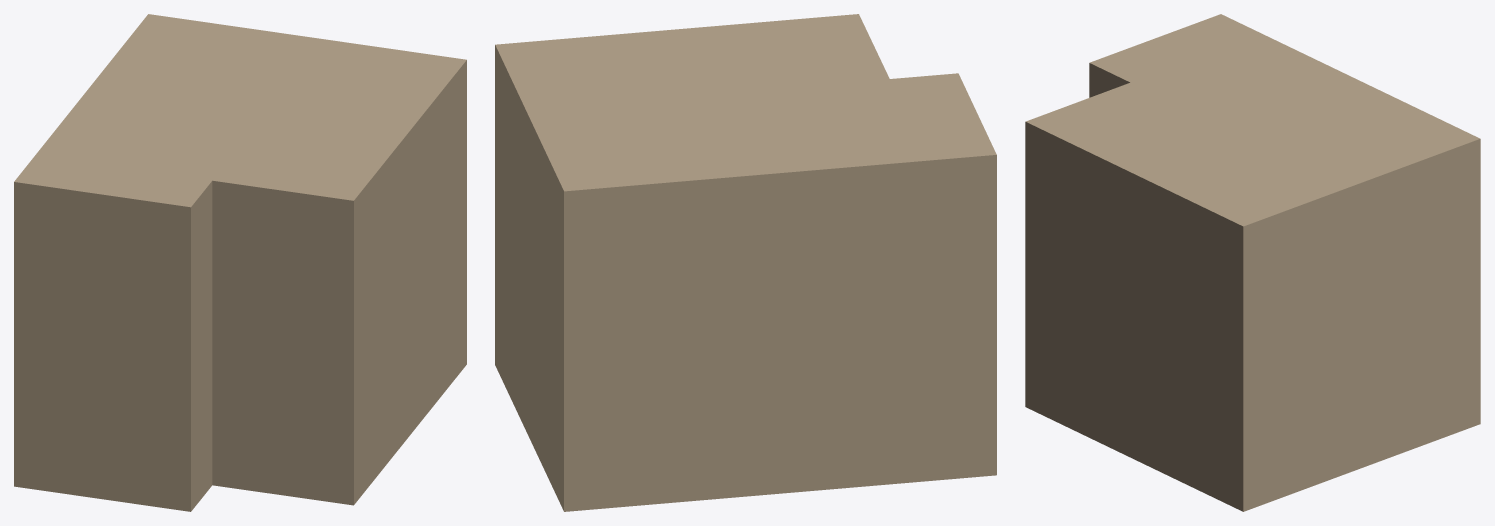
Rendered from bld_106297702.dae.
3 renders of one model, left to right at view 1: azimuth 30°, elevation 25°; view 2: azimuth 150°, elevation 25°; view 3: azimuth 270°, elevation 25°, orthographic. The views are drawn at different scales.
Visible parts, largest first — view 1: bld_106297702; view 2: bld_106297702; view 3: bld_106297702.
Boxes of the visible parts, x1,y1,x2,y2 form: bld_106297702: (14, 14, 466, 511); bld_106297702: (495, 14, 996, 511); bld_106297702: (1025, 14, 1480, 511).
Bounding box in the file's own units: 12.77 × 11.56 × 8.
